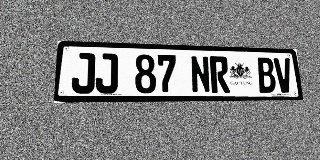7: (156, 55, 177, 93)
8: (135, 54, 156, 93)
B: (256, 57, 277, 93)
J: (71, 52, 95, 94), (95, 53, 118, 94)
N: (190, 56, 211, 93)
R: (209, 56, 230, 93)
V: (273, 58, 294, 93)
